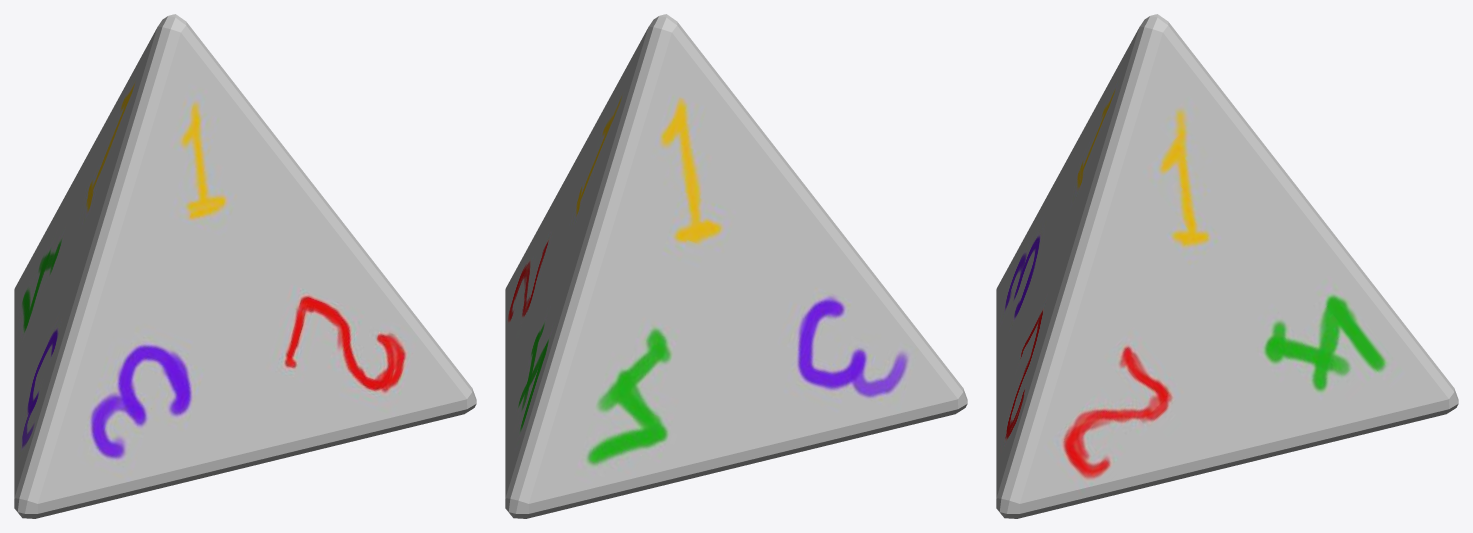
3 renders of one model, left to right at view 1: azimuth 30°, elevation 25°; view 2: azimuth 150°, elevation 25°; view 3: azimuth 270°, elevation 25°, orthographic.
Parts seen in each view (by area): view 1: d4; view 2: d4; view 3: d4.
Part boxes in pixels (x1=…): d4: x1=14, y1=14, x2=476, y2=518; d4: x1=505, y1=14, x2=967, y2=518; d4: x1=996, y1=14, x2=1458, y2=518.
Size of the model in its own units: 7.12 by 5.89 by 6.21.
Materials: 1 (1 with a texture image).
